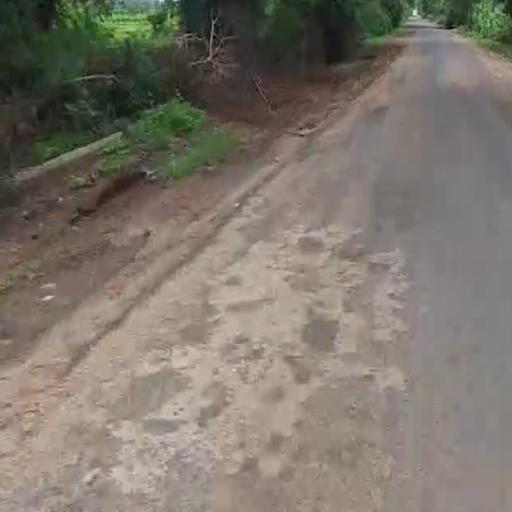ravelling: (79, 198, 450, 505)
